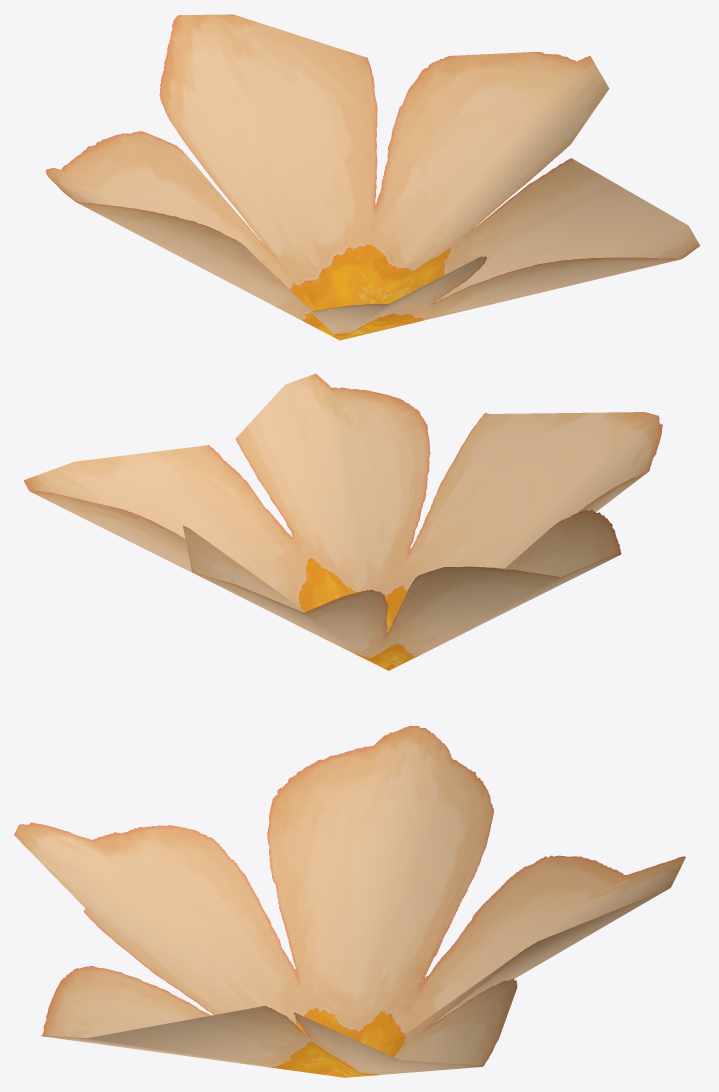
Rendered from Petal_2.glb.
3 views of the same model, one above another, from view 1: azimuth 30°, elevation 25°; view 2: azimuth 150°, elevation 25°; view 3: azimuth 270°, elevation 25° (orthographic). The views are drawn at different scales.
Parts seen in each view (by area): view 1: Petal_2; view 2: Petal_2; view 3: Petal_2.
Boxes of the visible parts, x1,y1,x2,y2 form: Petal_2: (45,14,700,340); Petal_2: (24,373,662,670); Petal_2: (14,725,685,1077).
Size of the model in its own units: 0.6732 by 0.2361 by 0.6311.
Materials: 1 (1 with a texture image).
